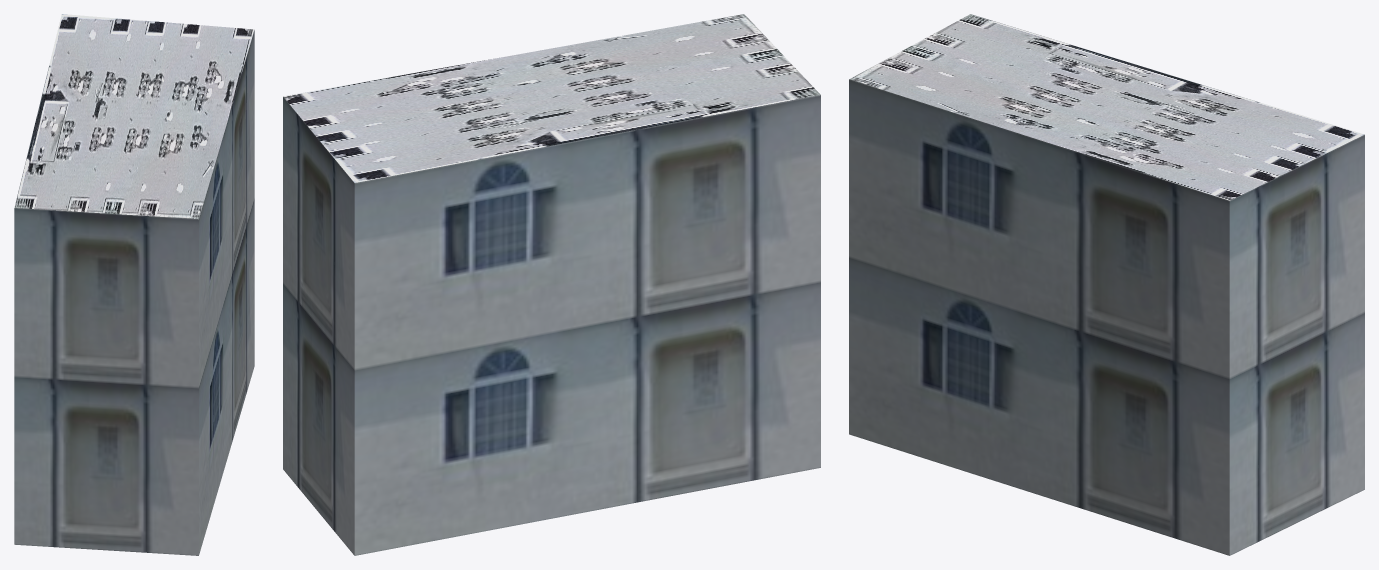
Rendered from ResTex__296.fbx.
3 views of the same model, side by side, from view 1: azimuth 30°, elevation 25°; view 2: azimuth 150°, elevation 25°; view 3: azimuth 270°, elevation 25° (orthographic). The views are drawn at different scales.
Parts seen in each view (by area): view 1: CityEngineMaterial_17_m, CityEngineMaterial_4_m; view 2: CityEngineMaterial_17_m, CityEngineMaterial_4_m; view 3: CityEngineMaterial_17_m, CityEngineMaterial_4_m.
Boxes of the visible parts, x1,y1,x2,y2 form: CityEngineMaterial_17_m: (14, 30, 254, 555); CityEngineMaterial_4_m: (14, 14, 254, 219); CityEngineMaterial_17_m: (283, 95, 820, 555); CityEngineMaterial_4_m: (283, 14, 820, 182); CityEngineMaterial_17_m: (849, 79, 1364, 555); CityEngineMaterial_4_m: (849, 14, 1364, 200).
Bounding box in the file's own units: 6.77 × 6 × 7.9.
2 materials, 2 textured.
